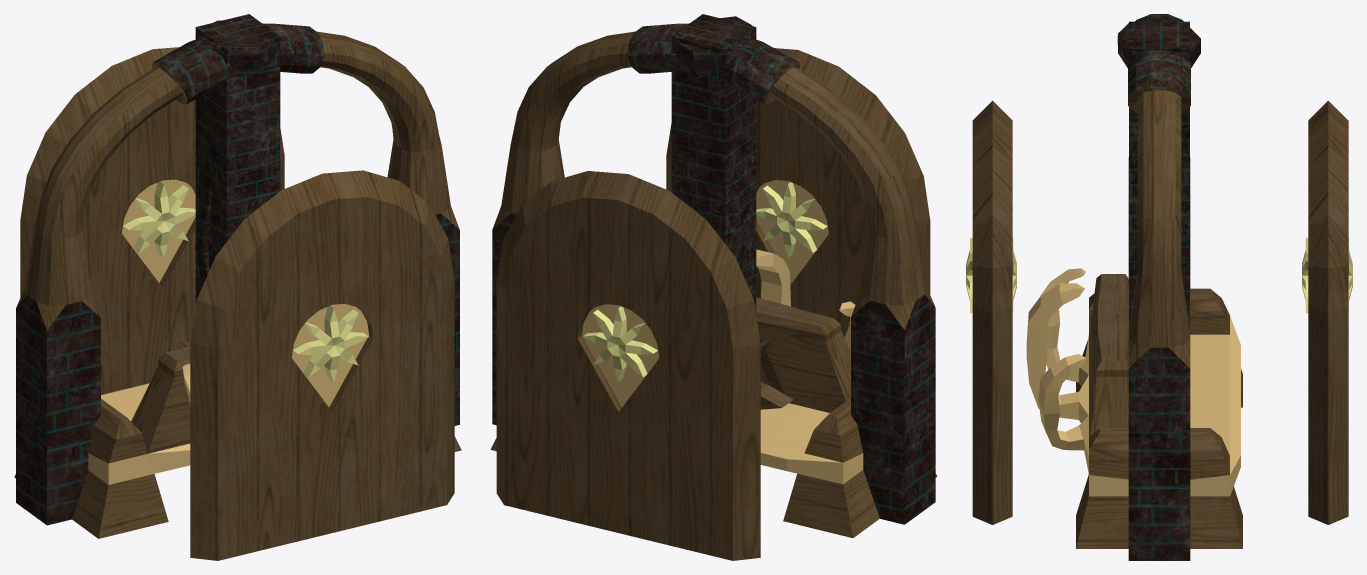
File: ModelsProps.fbx
3 renders of one model, left to right at view 1: azimuth 30°, elevation 25°; view 2: azimuth 150°, elevation 25°; view 3: azimuth 270°, elevation 25°, orthographic.
Parts seen in each view (by area): view 1: Doors, PillarArch, Bench, PillarSquare, PillarWarped, Pillar1; view 2: Doors, PillarArch, Bench, PillarSquare, PillarWarped, Pillar1, OctoStar; view 3: Doors, Bench, PillarArch, PillarSquare, Pillar1.
Boxes of the visible parts, box(x1,y1,x2,y2) form: Doors: box(20, 47, 454, 560); PillarArch: box(16, 23, 459, 525); Bench: box(14, 346, 461, 538); PillarSquare: box(195, 14, 280, 305); PillarWarped: box(195, 34, 271, 286); Pillar1: box(197, 20, 276, 78); Doors: box(496, 48, 930, 560); PillarArch: box(492, 23, 935, 524); Bench: box(490, 249, 937, 537); PillarSquare: box(671, 14, 756, 313); PillarWarped: box(691, 16, 752, 271); Pillar1: box(675, 23, 754, 78); OctoStar: box(760, 339, 793, 409); Doors: box(966, 100, 1352, 524); Bench: box(1026, 268, 1242, 548); PillarArch: box(1128, 14, 1190, 560); PillarSquare: box(1129, 21, 1189, 325); Pillar1: box(1118, 28, 1200, 67).
Bounding box in the file's own units: 200 × 201 × 164.
